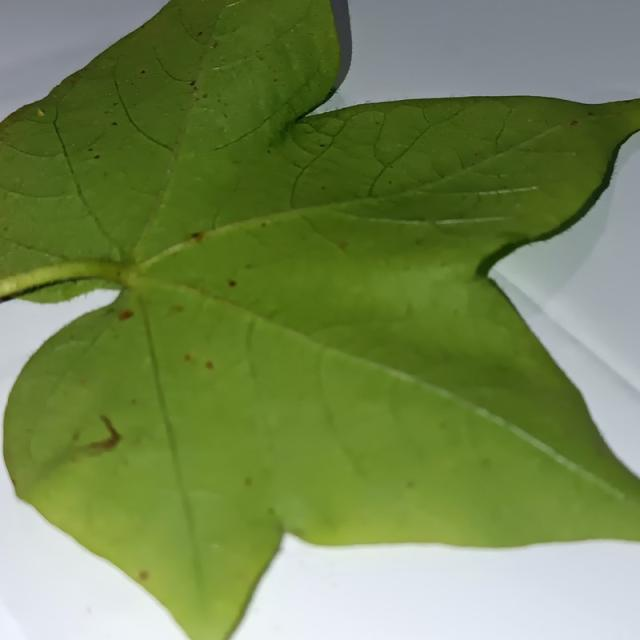Bacterial_Blight: (223, 271, 239, 291), (202, 357, 214, 373), (118, 309, 134, 321), (170, 304, 184, 313), (138, 570, 149, 580), (190, 231, 201, 239), (339, 241, 348, 250), (267, 507, 276, 516), (406, 480, 416, 488), (244, 477, 252, 486), (72, 432, 80, 441), (36, 108, 45, 116), (183, 354, 191, 362), (130, 398, 138, 405), (211, 41, 218, 49), (570, 120, 578, 126), (257, 55, 265, 61), (260, 222, 267, 228), (189, 80, 196, 86), (202, 93, 208, 99), (192, 85, 198, 91), (197, 31, 203, 37), (111, 121, 118, 126), (527, 147, 534, 152), (93, 154, 100, 159), (588, 111, 594, 116), (474, 152, 479, 157), (140, 70, 146, 74), (88, 148, 94, 152), (388, 180, 392, 184)
Cotton: (0, 0, 639, 639)
